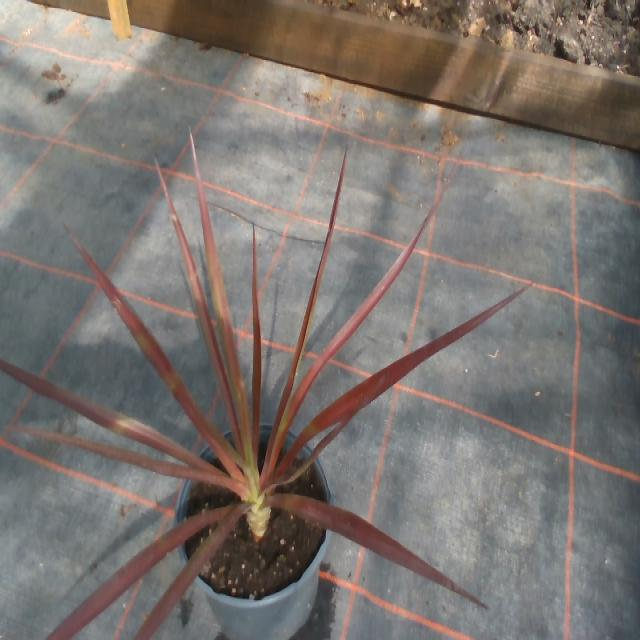Yucca-aloifolia: (66, 225, 247, 479), (276, 288, 524, 471), (276, 219, 427, 444), (267, 496, 486, 607), (47, 507, 233, 636), (0, 359, 204, 471), (157, 167, 239, 443), (276, 152, 346, 432), (190, 133, 247, 459), (135, 515, 239, 639), (29, 429, 230, 487), (252, 229, 261, 455)
